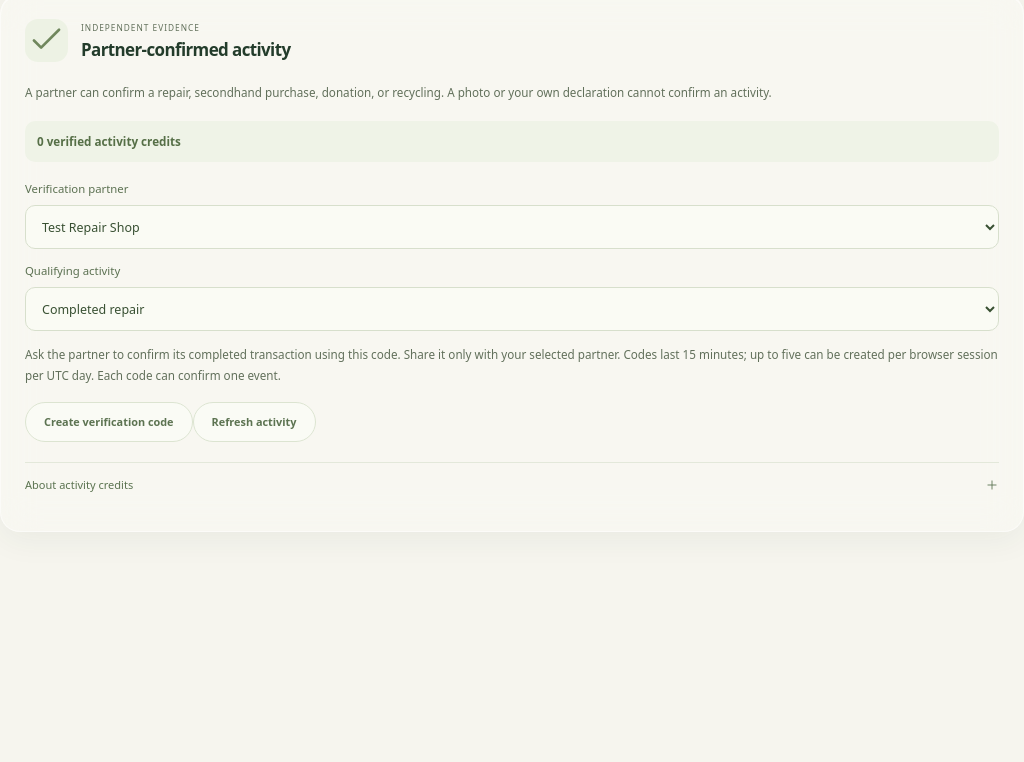
Test: partner activity review › creates a code for the selected activity and refreshes partner evidence
Select "Accepted donation" in the dropdown labelled "Qualifying activity" at (512, 309), box 25,287 -> 999,331
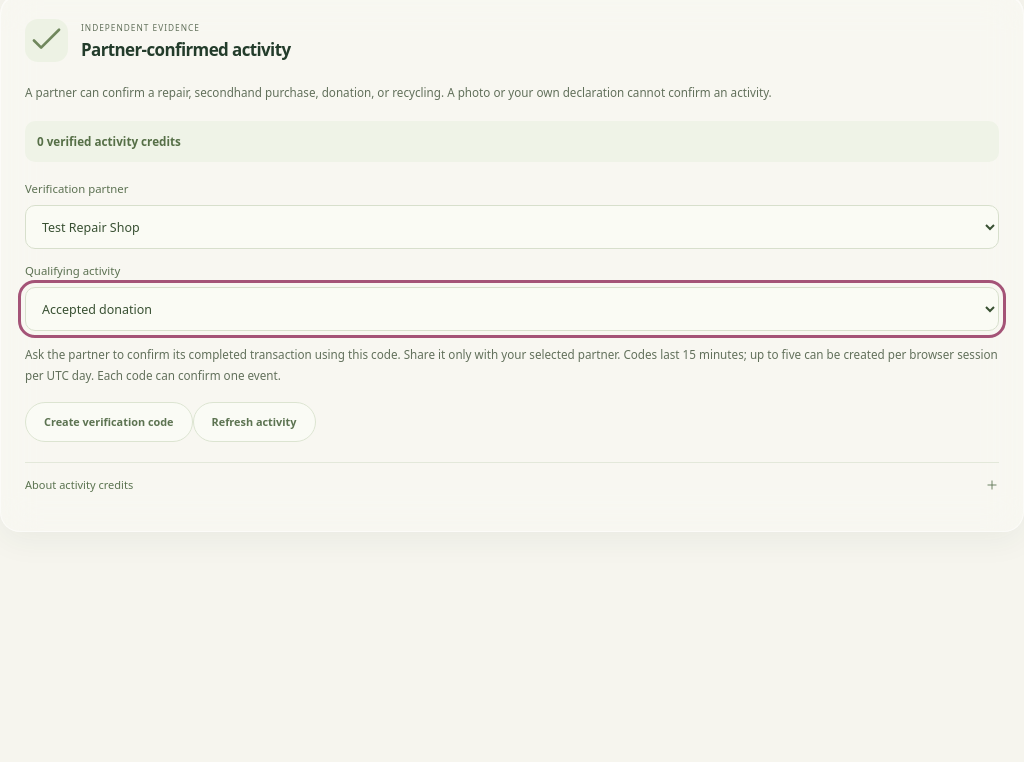
Click the button "Create verification code".
click(109, 422)  # box 25,402 -> 192,442
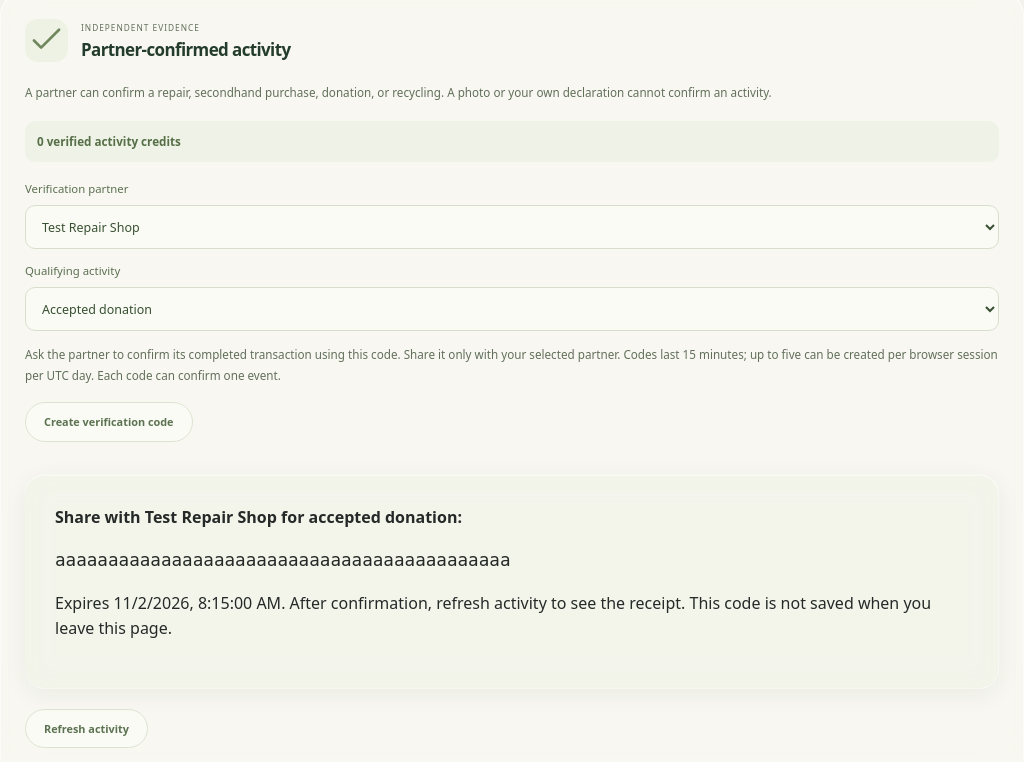
Click the button "Refresh activity".
click(86, 728)  # box 25,709 -> 148,748
(page scrolled)
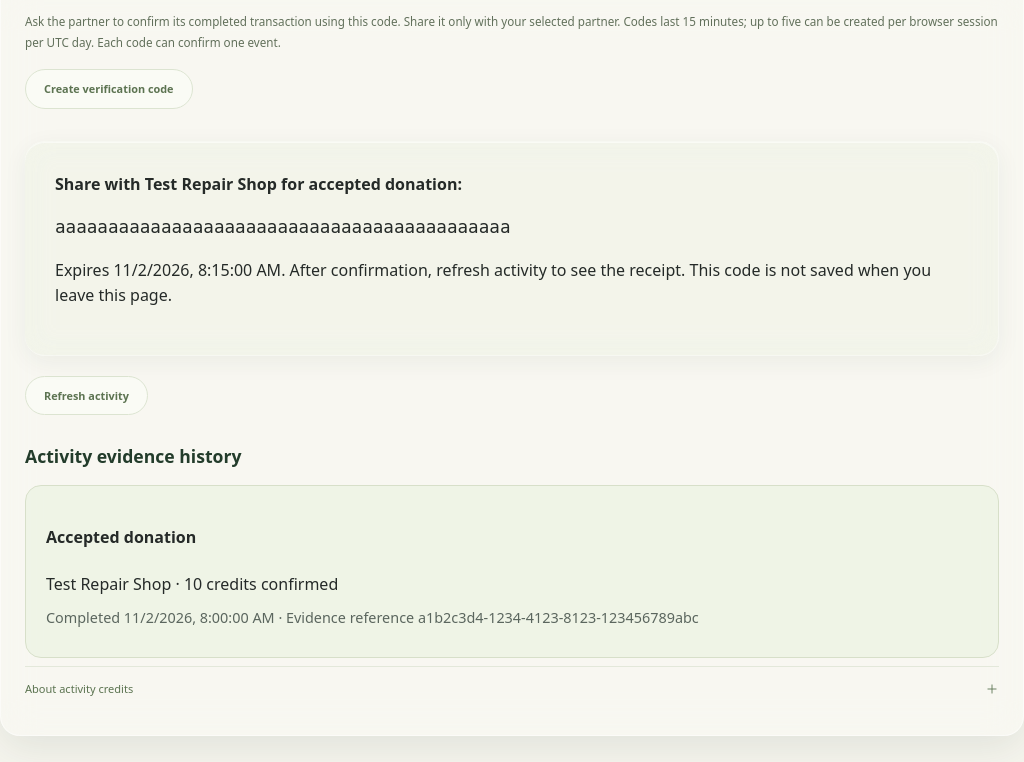
Check: the text "Test Repair Shop · 10 credits confirmed" is shown, box 46,573 -> 338,595
